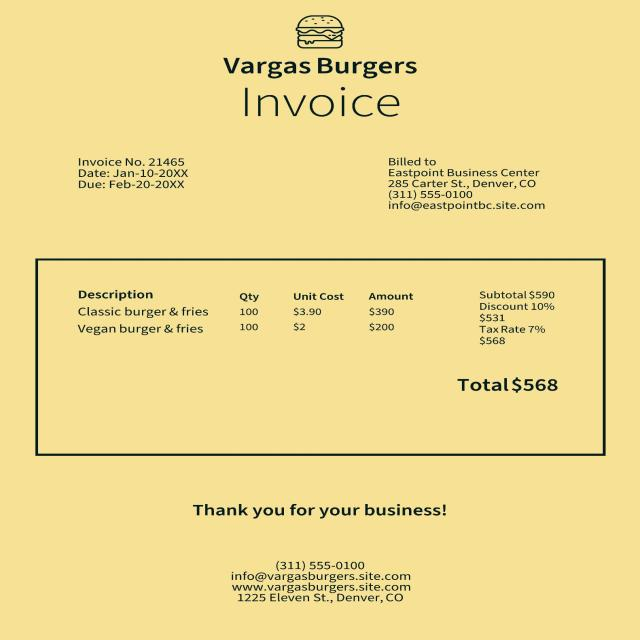paragraph: (200, 41, 440, 122), (223, 552, 420, 618), (378, 152, 562, 220), (186, 494, 451, 525), (463, 279, 569, 352), (68, 147, 196, 199), (444, 372, 572, 398)
table: (69, 275, 424, 346)
